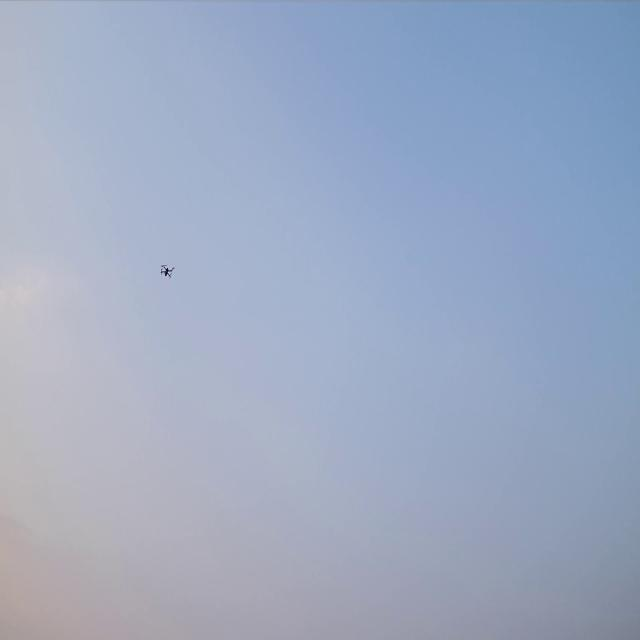UAV: (159, 262, 175, 280)
